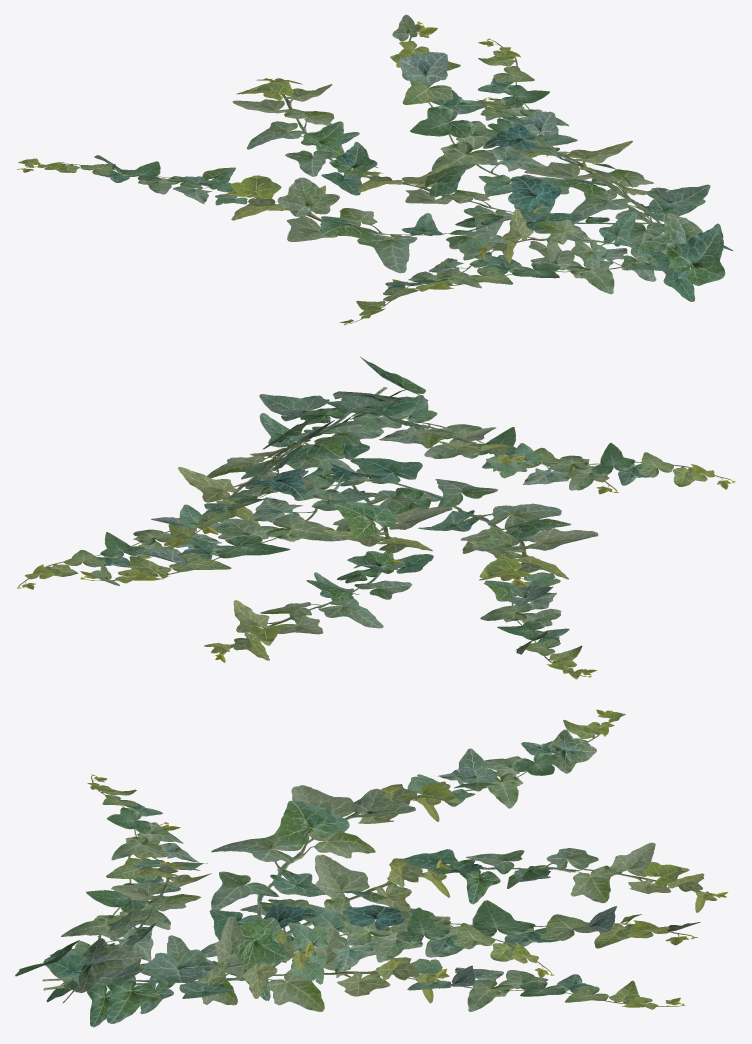
Rendered from sm_Ivy_01_01.fbx.
3 renders of one model, top to bottom at view 1: azimuth 30°, elevation 25°; view 2: azimuth 150°, elevation 25°; view 3: azimuth 270°, elevation 25°, orthographic. The views are drawn at different scales.
Visible parts, largest first — view 1: sm_Ivy_01_01; view 2: sm_Ivy_01_01; view 3: sm_Ivy_01_01.
Part boxes in pixels (x1,y1,x2,y2): sm_Ivy_01_01: (16, 14, 732, 325); sm_Ivy_01_01: (17, 356, 735, 679); sm_Ivy_01_01: (15, 709, 728, 1027).
Size of the model in its own units: 84.65 by 91.19 by 12.03.
